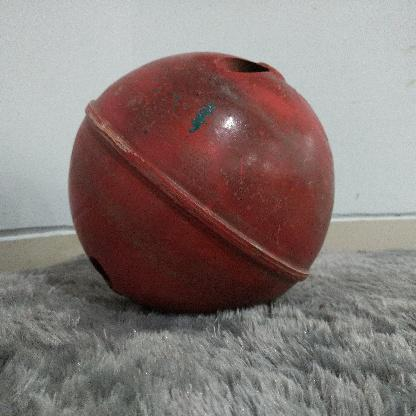red_buoy: (67, 49, 336, 312)
